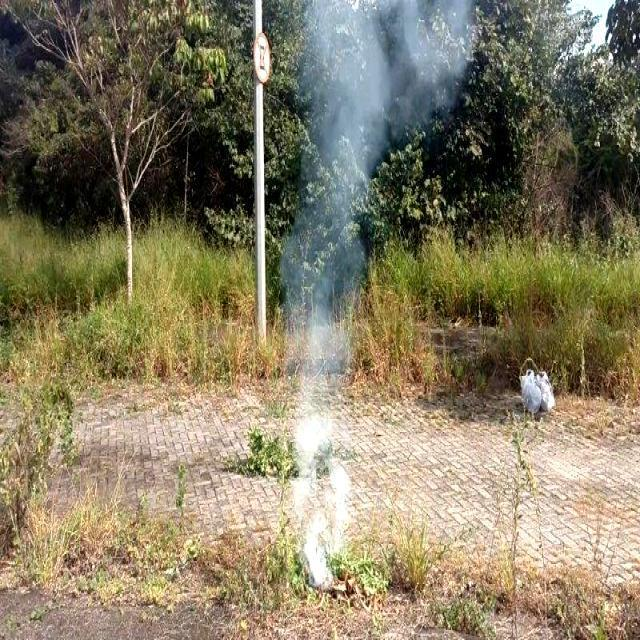Smoke: (276, 204, 365, 594), (287, 0, 453, 194)
